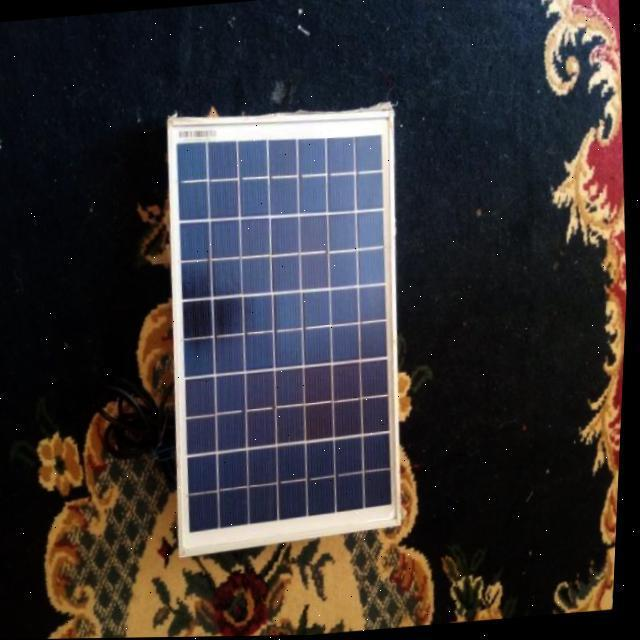Normal Solar Panel: (154, 103, 422, 554)
